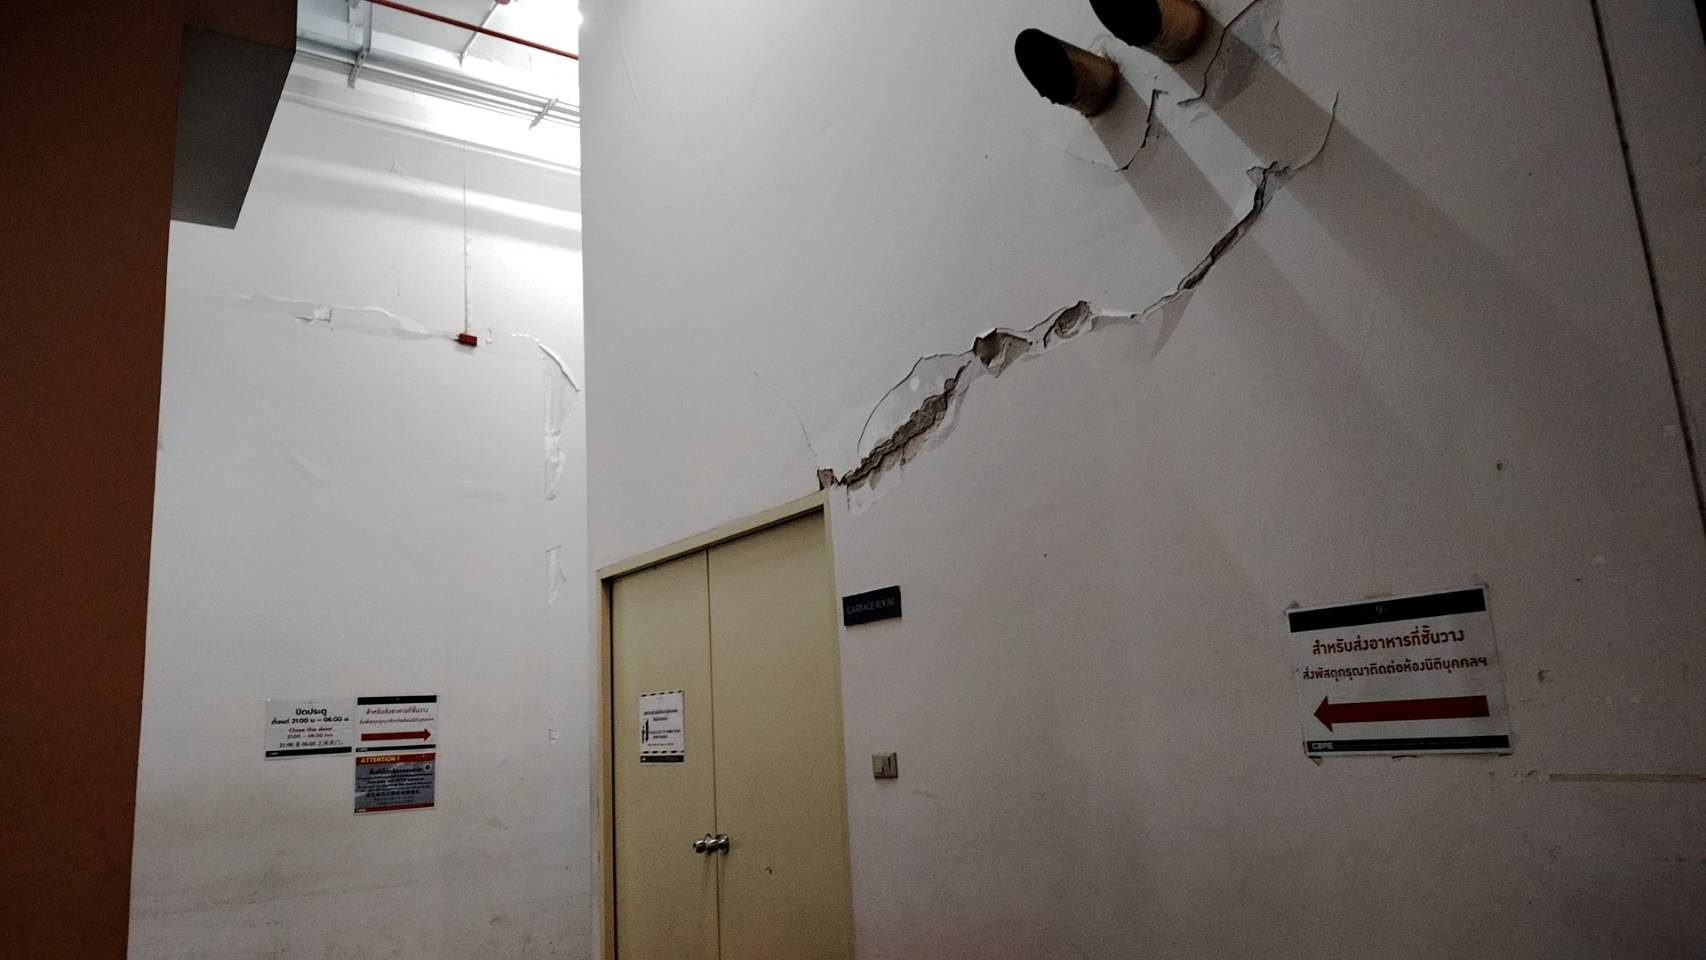Medium: (846, 247, 1362, 501)
